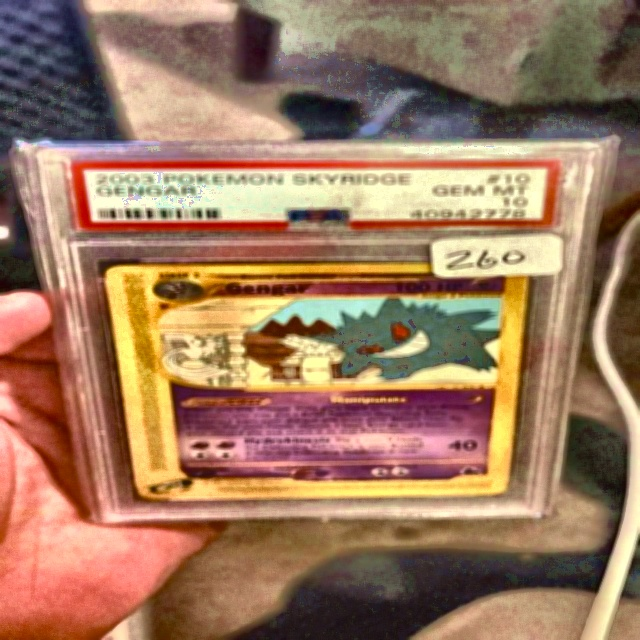card: (101, 263, 533, 501)
